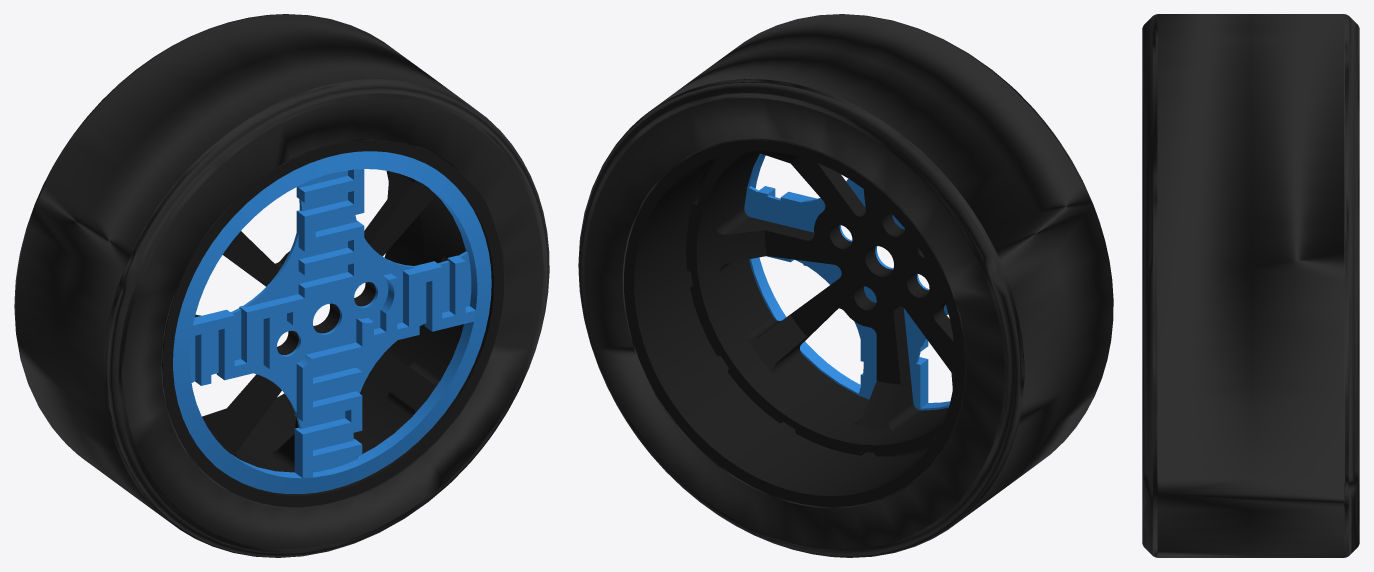
The model's file is wheel.dae.
3 renders of one model, left to right at view 1: azimuth 30°, elevation 25°; view 2: azimuth 150°, elevation 25°; view 3: azimuth 270°, elevation 25°, orthographic. The views are drawn at different scales.
Visible parts, largest first — view 1: Body1_ncl1_1, Body1, Body1_ncl1_3, Body1_ncl1_2; view 2: Body1_ncl1_1, Body1_ncl1_3, Body1_ncl1_2, Body1; view 3: Body1_ncl1_1.
Part boxes in pixels (box(x1,y1,x2,y2)): Body1_ncl1_1: box(14, 14, 549, 557); Body1: box(173, 151, 491, 494); Body1_ncl1_3: box(195, 171, 465, 472); Body1_ncl1_2: box(162, 139, 503, 507); Body1_ncl1_1: box(578, 14, 1113, 557); Body1_ncl1_3: box(686, 151, 954, 457); Body1_ncl1_2: box(624, 139, 965, 506); Body1: box(744, 153, 950, 410); Body1_ncl1_1: box(1142, 14, 1359, 557).
Bounding box in the file's own units: 2.56 × 2.56 × 1.02.
